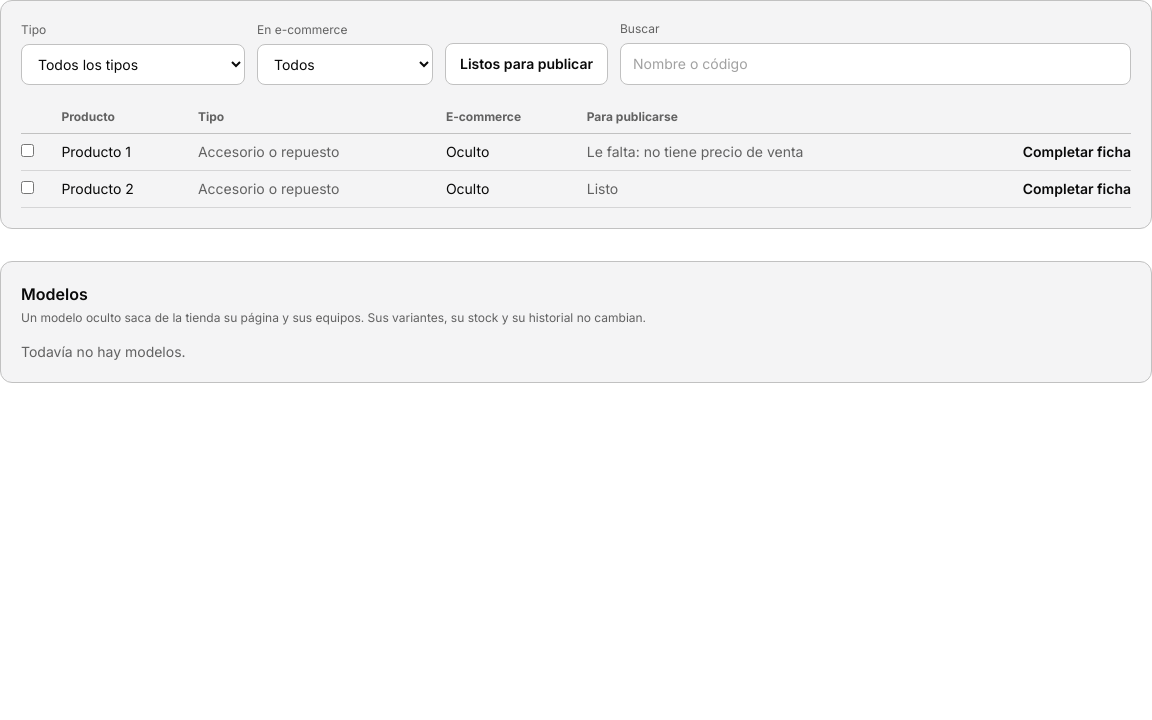
Test: Completar ficha — pendientes y editores › un precio inválido no viaja y dice por qué; uno válido se guarda y refresca lo pendiente
The width and height of the screenshot is (1152, 720).
Expected: the table named "Productos y variantes" is shown, left=21, top=101, right=1131, bottom=208
Click the button with aria-label "Completar ficha de Producto 1" at (1077, 152), box left=1023, top=142, right=1131, bottom=162
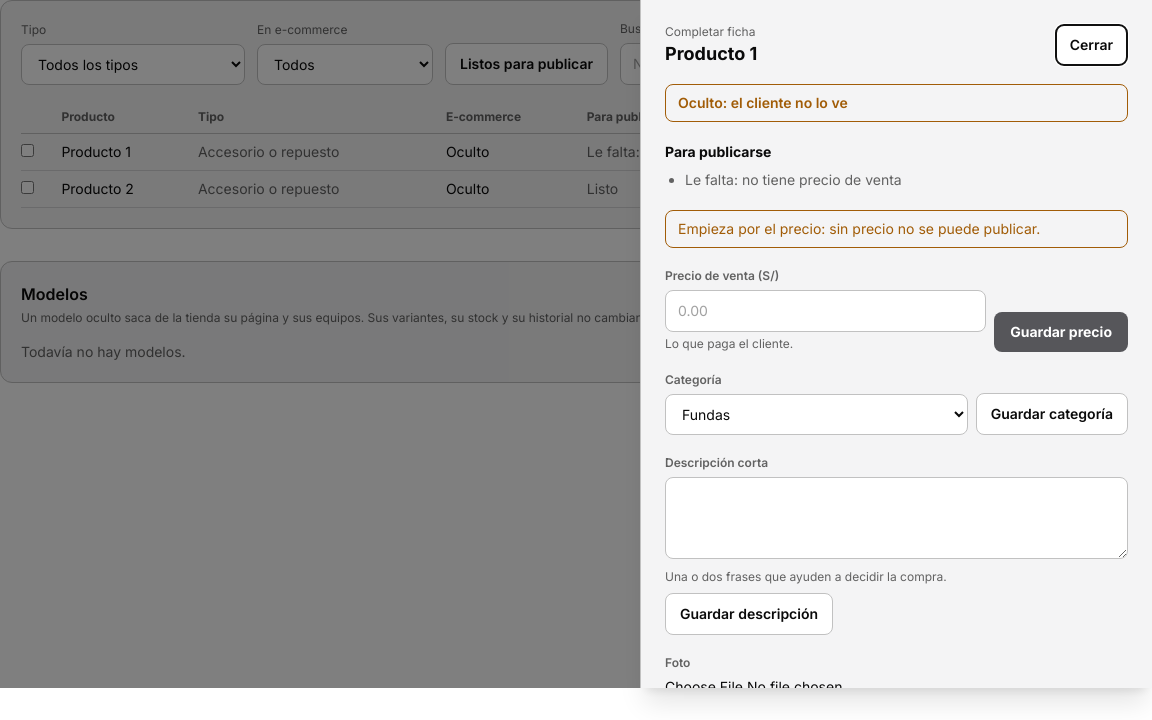
Expected: the field labelled "Precio de venta (S/)" is shown
Type "0" into the field labelled "Precio de venta (S/)" at (826, 311), box left=665, top=290, right=986, bottom=332
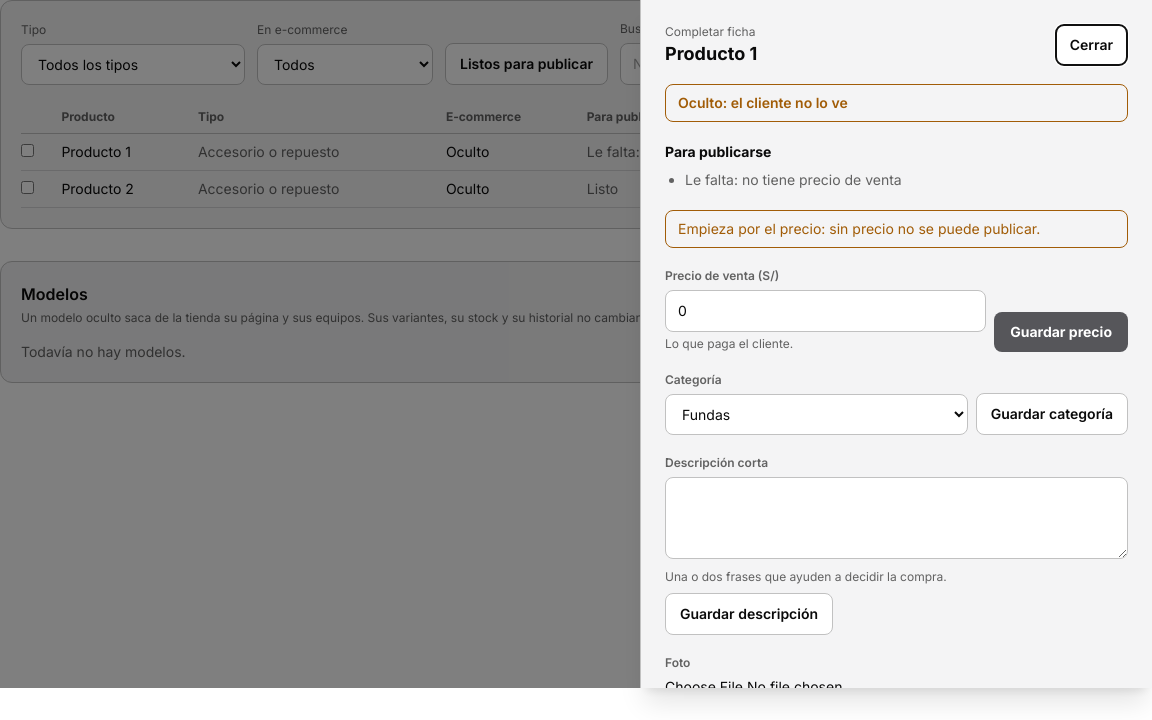
Click the button "Guardar precio" at (1061, 332), box left=994, top=312, right=1128, bottom=352
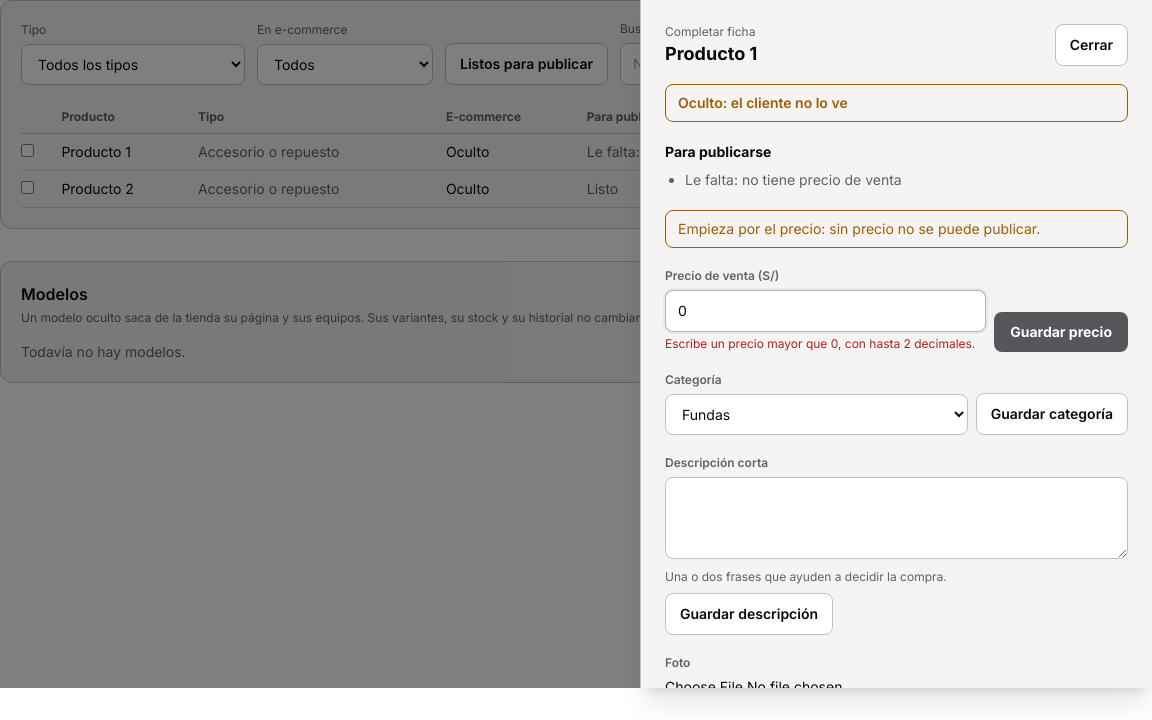
Expected: the text "Escribe un precio mayor que 0, con hasta 2 decimales." is shown, left=665, top=336, right=986, bottom=352
Replace the text in the field labelled "Precio de venta (S/)" with "99,90" at (826, 311), box left=665, top=290, right=986, bottom=332
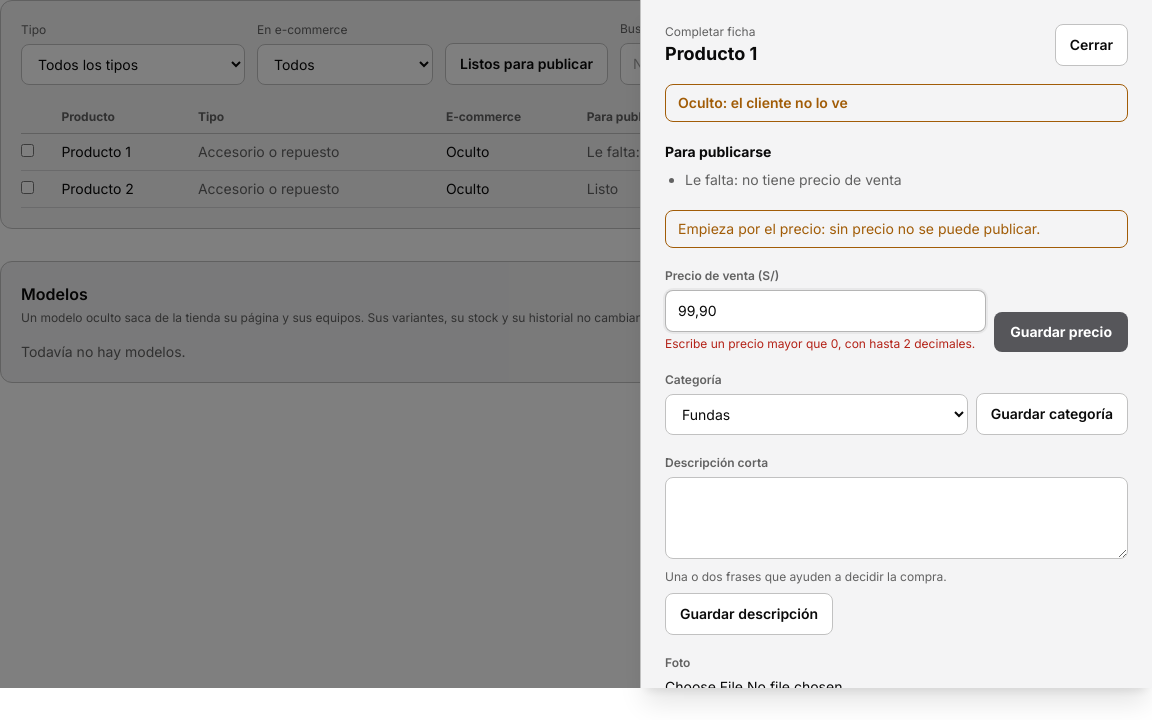
Click the button "Guardar precio" at (1061, 332), box left=994, top=312, right=1128, bottom=352
(page scrolled)
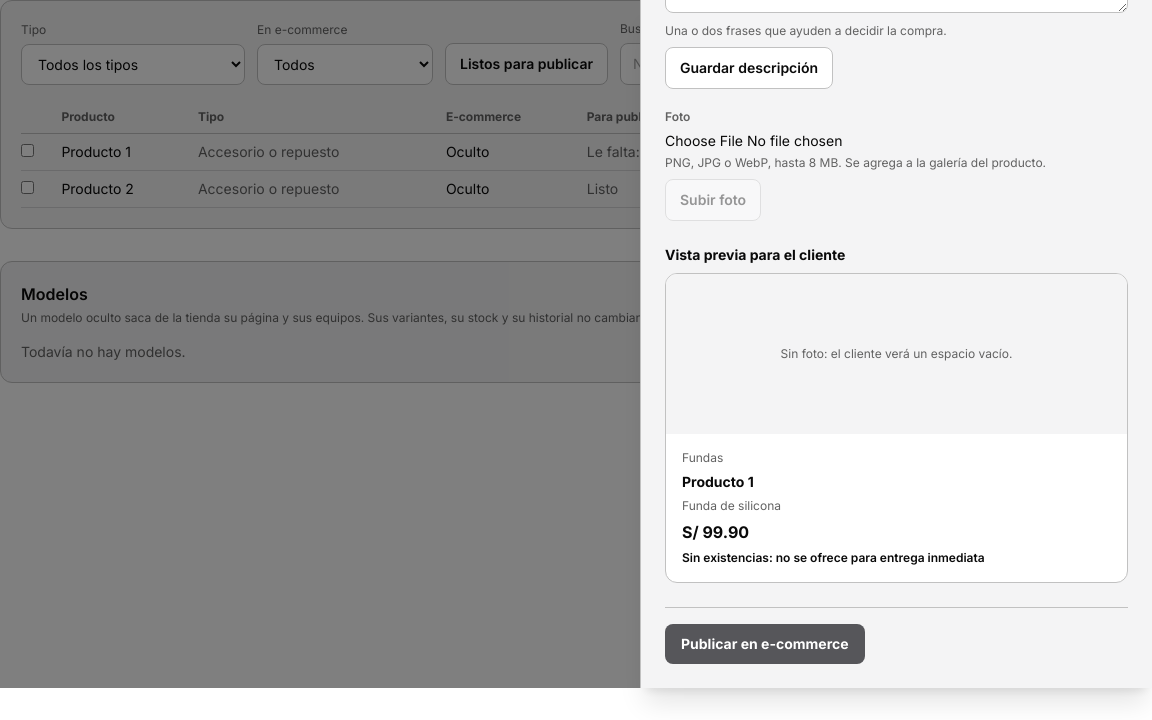
Expected: the text "Empieza por el precio" is gone
Expected: the text "S/ 99.90" is shown, left=682, top=522, right=749, bottom=542
